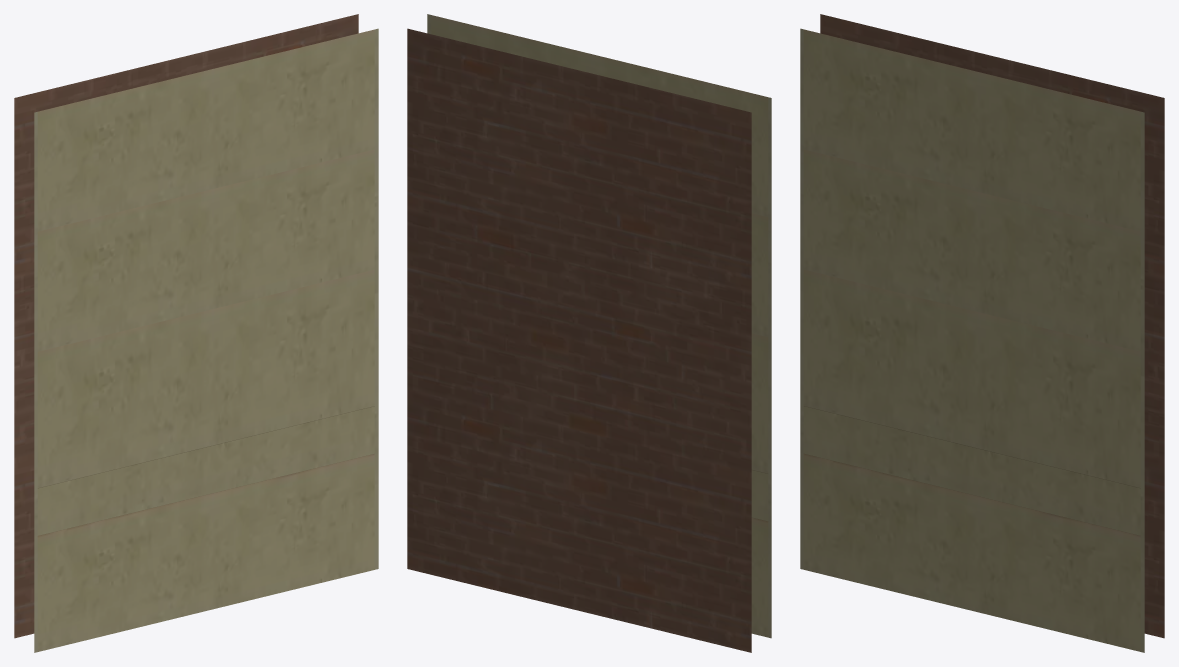
Rendered from Trim_Plain_3.glb.
3 renders of one model, left to right at view 1: azimuth 30°, elevation 25°; view 2: azimuth 150°, elevation 25°; view 3: azimuth 330°, elevation 25°, orthographic.
Visible parts, largest first — view 1: Trim_Plain_3; view 2: Trim_Plain_3; view 3: Trim_Plain_3.
Part boxes in pixels (<box>): Trim_Plain_3: <box>14,14,378,652</box>; Trim_Plain_3: <box>407,14,771,652</box>; Trim_Plain_3: <box>800,14,1164,652</box>.
Bounding box in the file's own units: 2 × 3 × 0.2.
Materials: 2 (2 with a texture image).
